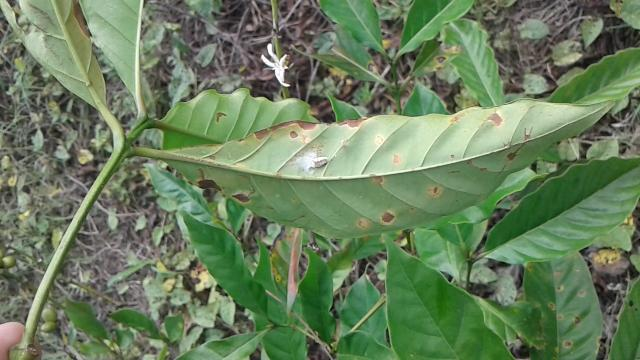rust_level_1: (164, 101, 614, 236)
